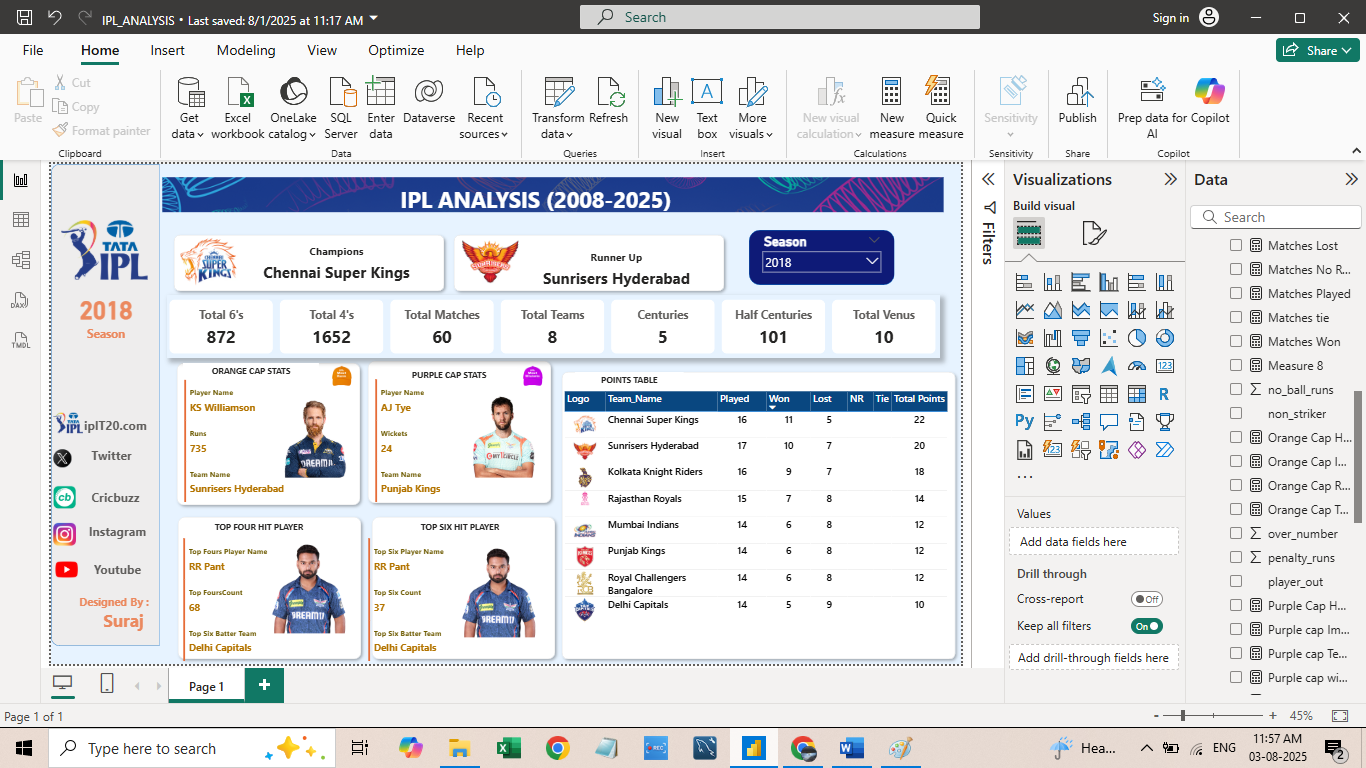

The dashboard page shown, as its layout file describes it:
{"tool":"powerbi","page":{"name":"Page 1","canvas":[2000,1100],"ordinal":0},"visuals":[{"type":"shape","box":[1535.4,144.4,320.2,120.7],"z":0},{"type":"shape","box":[1112.9,446.2,887.1,653.5],"z":1000},{"type":"shape","box":[266.2,426.8,424.6,334.4],"z":2000},{"type":"shape","box":[686.4,422.4,424.6,334.4],"z":3000},{"type":"shape","box":[875.6,145.2,616,145.2],"z":4000},{"type":"shape","box":[259.6,145.2,616,145.2],"z":5000},{"type":"image","box":[239.8,22,1729.2,90.2],"z":6000},{"type":"shape","box":[0,0,238.8,1060.4],"z":7000},{"type":"textbox","box":[741.4,39.6,651.2,88],"z":8000},{"type":"slicer","fields":{"Values":["ipl_matches_data.season"]},"box":[1556.4,147,280.8,118.1],"z":9000},{"type":"cardVisual","fields":{"Data":["ipl_matches_data.Season Winner"]},"box":[380.6,158.4,495,118.8],"z":10000},{"type":"cardVisual","fields":{"Data":["ipl_matches_data.Season Winner Logo"]},"box":[259.6,127.6,160.6,154],"z":11000},{"type":"cardVisual","fields":{"Data":["ipl_matches_data.Runner Up"]},"box":[996.6,171.6,495,118.8],"z":12000},{"type":"cardVisual","fields":{"Data":["ball_by_ball_data.Runnerup Logo"]},"box":[875.6,127.6,158.4,145.2],"z":13000},{"type":"cardVisual","fields":{"Data":["ball_by_ball_data.Total 6's","ball_by_ball_data.Total 4's","ball_by_ball_data.Total Matches","ball_by_ball_data.Total Teams","ball_by_ball_data.Centuries","ball_by_ball_data.Half Centuries","ball_by_ball_data.Total Venus"]},"box":[254.6,288.7,1700.8,139.1],"z":14000},{"type":"cardVisual","fields":{"Data":["ball_by_ball_data.Orange Cap Holder","ball_by_ball_data.Orange Cap Runs","ball_by_ball_data.Orange Cap Team Name"]},"box":[288.2,468.6,341,281.6],"z":15000},{"type":"textbox","box":[290.4,437.8,299.2,37.4],"z":16000},{"type":"cardVisual","fields":{"Data":["ball_by_ball_data.Orange Cap Image"]},"box":[457.6,495,250.8,200.2],"z":17000},{"type":"image","box":[589.6,437.8,101.2,57.2],"z":18000},{"type":"shape","box":[268.4,765.6,424.6,334.4],"z":19000},{"type":"shape","box":[695.2,765.6,424.6,334.4],"z":20000},{"type":"cardVisual","fields":{"Data":["ball_by_ball_data.Purple Cap Holder","ball_by_ball_data.Purple cap wicket","ball_by_ball_data.Purple cap Team"]},"box":[708.4,468.6,341,281.6],"z":21000},{"type":"textbox","box":[726,446.6,299.2,37.4],"z":22000},{"type":"cardVisual","fields":{"Data":["ball_by_ball_data.Purple cap Image"]},"box":[871.2,484,250.8,211.2],"z":23000},{"type":"image","box":[1009.8,437.8,101.2,57.2],"z":24000},{"type":"cardVisual","fields":{"Data":["ball_by_ball_data.Top Fours Player Name","ball_by_ball_data.Top FoursCount","ball_by_ball_data.Top Fours Batter Team"]},"box":[286,818.4,244.2,281.6],"z":25000},{"type":"textbox","box":[308,781,299.2,37.4],"z":26000},{"type":"cardVisual","fields":{"Data":["ball_by_ball_data.Top Fours Player Image"]},"box":[442.2,809.6,250.8,246.4],"z":27000},{"type":"cardVisual","fields":{"Data":["ball_by_ball_data.Top Six Player Name","ball_by_ball_data.Top Six Count","ball_by_ball_data.Top Six Batter Team"]},"box":[693,818.4,244.2,281.6],"z":28000},{"type":"textbox","box":[750.2,781,299.2,37.4],"z":29000},{"type":"cardVisual","fields":{"Data":["ball_by_ball_data.Top Six Player Image"]},"box":[860.2,818.4,250.8,246.4],"z":30000},{"type":"tableEx","fields":{"Values":["teams_data.image_url","teams_data.team_name","ball_by_ball_data.Matches Played","ball_by_ball_data.Matches Won","ball_by_ball_data.Matches Lost","ball_by_ball_data.Matches No Result","ball_by_ball_data.Matches tie","ball_by_ball_data.Total Points"]},"box":[1123.4,496.1,876.6,593.2],"z":31000},{"type":"textbox","box":[1152.2,456.7,238.8,39.4],"z":32000},{"type":"image","box":[0,519.7,75,100],"z":33000},{"type":"card","fields":{"Values":["ball_by_ball_data.Season"]},"box":[47.2,265.1,149.6,136.5],"z":34000},{"type":"actionButton","box":[47.2,530.2,191.6,89.2],"z":35000},{"type":"image","box":[18.4,39.4,200,299.2],"z":36000},{"type":"image","box":[0,608.9,50,76.1],"z":37000},{"type":"actionButton","box":[36.7,595.8,191.6,89.2],"z":38000},{"type":"image","box":[0,695.5,60,75],"z":39000},{"type":"actionButton","box":[47.2,687.7,191.6,89.2],"z":40000},{"type":"image","box":[0,776.9,60.4,76.1],"z":41000},{"type":"actionButton","box":[49.9,763.8,191.6,89.2],"z":42000},{"type":"image","box":[5.2,853,60.4,76.1],"z":43000},{"type":"actionButton","box":[49.9,847.8,191.6,89.2],"z":44000},{"type":"textbox","box":[57.7,942.3,168,126],"z":45000}]}

Visuals, with their boxes on the page's 2000x1100 design canvas (x1, y1, x2, y2). These are canvas units, not pixel positions in the 1366x768 screenshot, which may show the page scaled, cropped or inside an application window:
shape: (1535,144,1856,265)
shape: (1113,446,2000,1100)
shape: (266,427,691,761)
shape: (686,422,1111,757)
shape: (876,145,1492,290)
shape: (260,145,876,290)
image: (240,22,1969,112)
shape: (0,0,239,1060)
textbox: (741,40,1393,128)
slicer - ipl_matches_data.season: (1556,147,1837,265)
cardVisual - ipl_matches_data.Season Winner: (381,158,876,277)
cardVisual - ipl_matches_data.Season Winner Logo: (260,128,420,282)
cardVisual - ipl_matches_data.Runner Up: (997,172,1492,290)
cardVisual - ball_by_ball_data.Runnerup Logo: (876,128,1034,273)
cardVisual - ball_by_ball_data.Total 6's x ball_by_ball_data.Total 4's: (255,289,1955,428)
cardVisual - ball_by_ball_data.Orange Cap Holder x ball_by_ball_data.Orange Cap Runs: (288,469,629,750)
textbox: (290,438,590,475)
cardVisual - ball_by_ball_data.Orange Cap Image: (458,495,708,695)
image: (590,438,691,495)
shape: (268,766,693,1100)
shape: (695,766,1120,1100)
cardVisual - ball_by_ball_data.Purple Cap Holder x ball_by_ball_data.Purple cap wicket: (708,469,1049,750)
textbox: (726,447,1025,484)
cardVisual - ball_by_ball_data.Purple cap Image: (871,484,1122,695)
image: (1010,438,1111,495)
cardVisual - ball_by_ball_data.Top Fours Player Name x ball_by_ball_data.Top FoursCount: (286,818,530,1100)
textbox: (308,781,607,818)
cardVisual - ball_by_ball_data.Top Fours Player Image: (442,810,693,1056)
cardVisual - ball_by_ball_data.Top Six Player Name x ball_by_ball_data.Top Six Count: (693,818,937,1100)
textbox: (750,781,1049,818)
cardVisual - ball_by_ball_data.Top Six Player Image: (860,818,1111,1065)
tableEx - teams_data.image_url x teams_data.team_name: (1123,496,2000,1089)
textbox: (1152,457,1391,496)
image: (0,520,75,620)
card - ball_by_ball_data.Season: (47,265,197,402)
actionButton: (47,530,239,619)
image: (18,39,218,339)
image: (0,609,50,685)
actionButton: (37,596,228,685)
image: (0,696,60,770)
actionButton: (47,688,239,777)
image: (0,777,60,853)
actionButton: (50,764,242,853)
image: (5,853,66,929)
actionButton: (50,848,242,937)
textbox: (58,942,226,1068)
